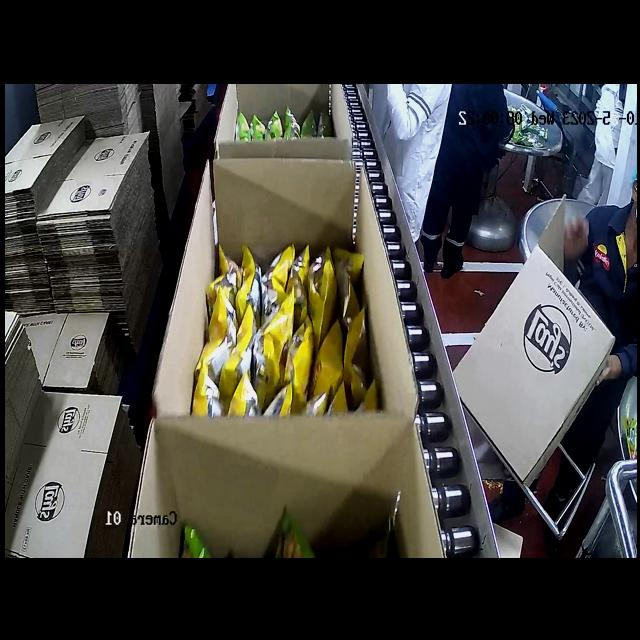salted: (189, 240, 375, 416)
yogurt: (223, 108, 336, 140)
